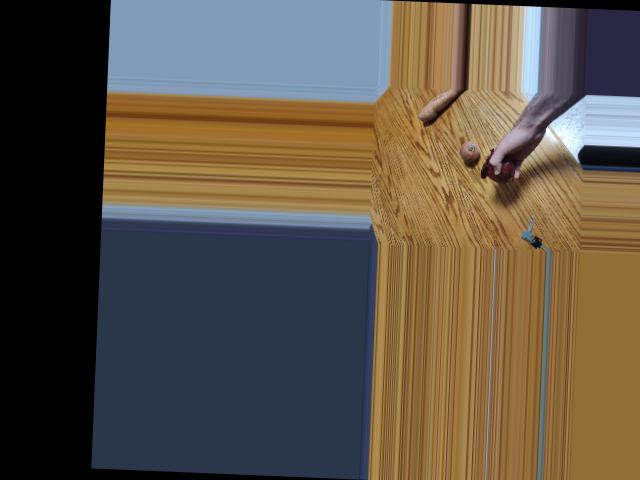onion: (461, 135, 487, 162)
